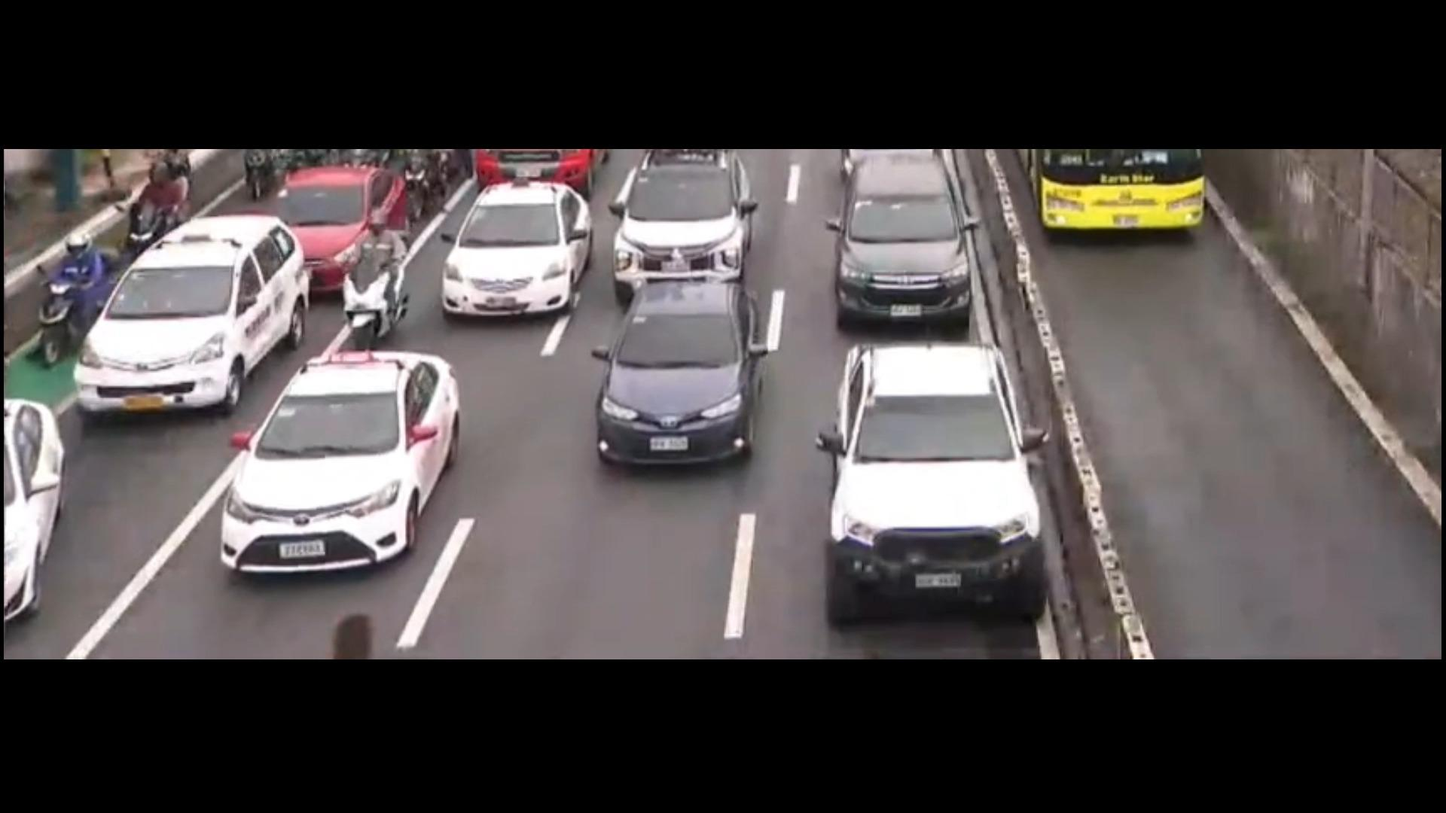Bus: (1012, 149, 1205, 229)
Motorcycle: (38, 232, 119, 367), (343, 210, 411, 354), (125, 154, 198, 260)
SUV: (822, 346, 1048, 614), (75, 215, 310, 417), (830, 156, 977, 336), (610, 150, 760, 303)
Sedan: (218, 351, 461, 574), (592, 284, 770, 470), (438, 179, 595, 318), (258, 167, 411, 289), (3, 394, 66, 624)
